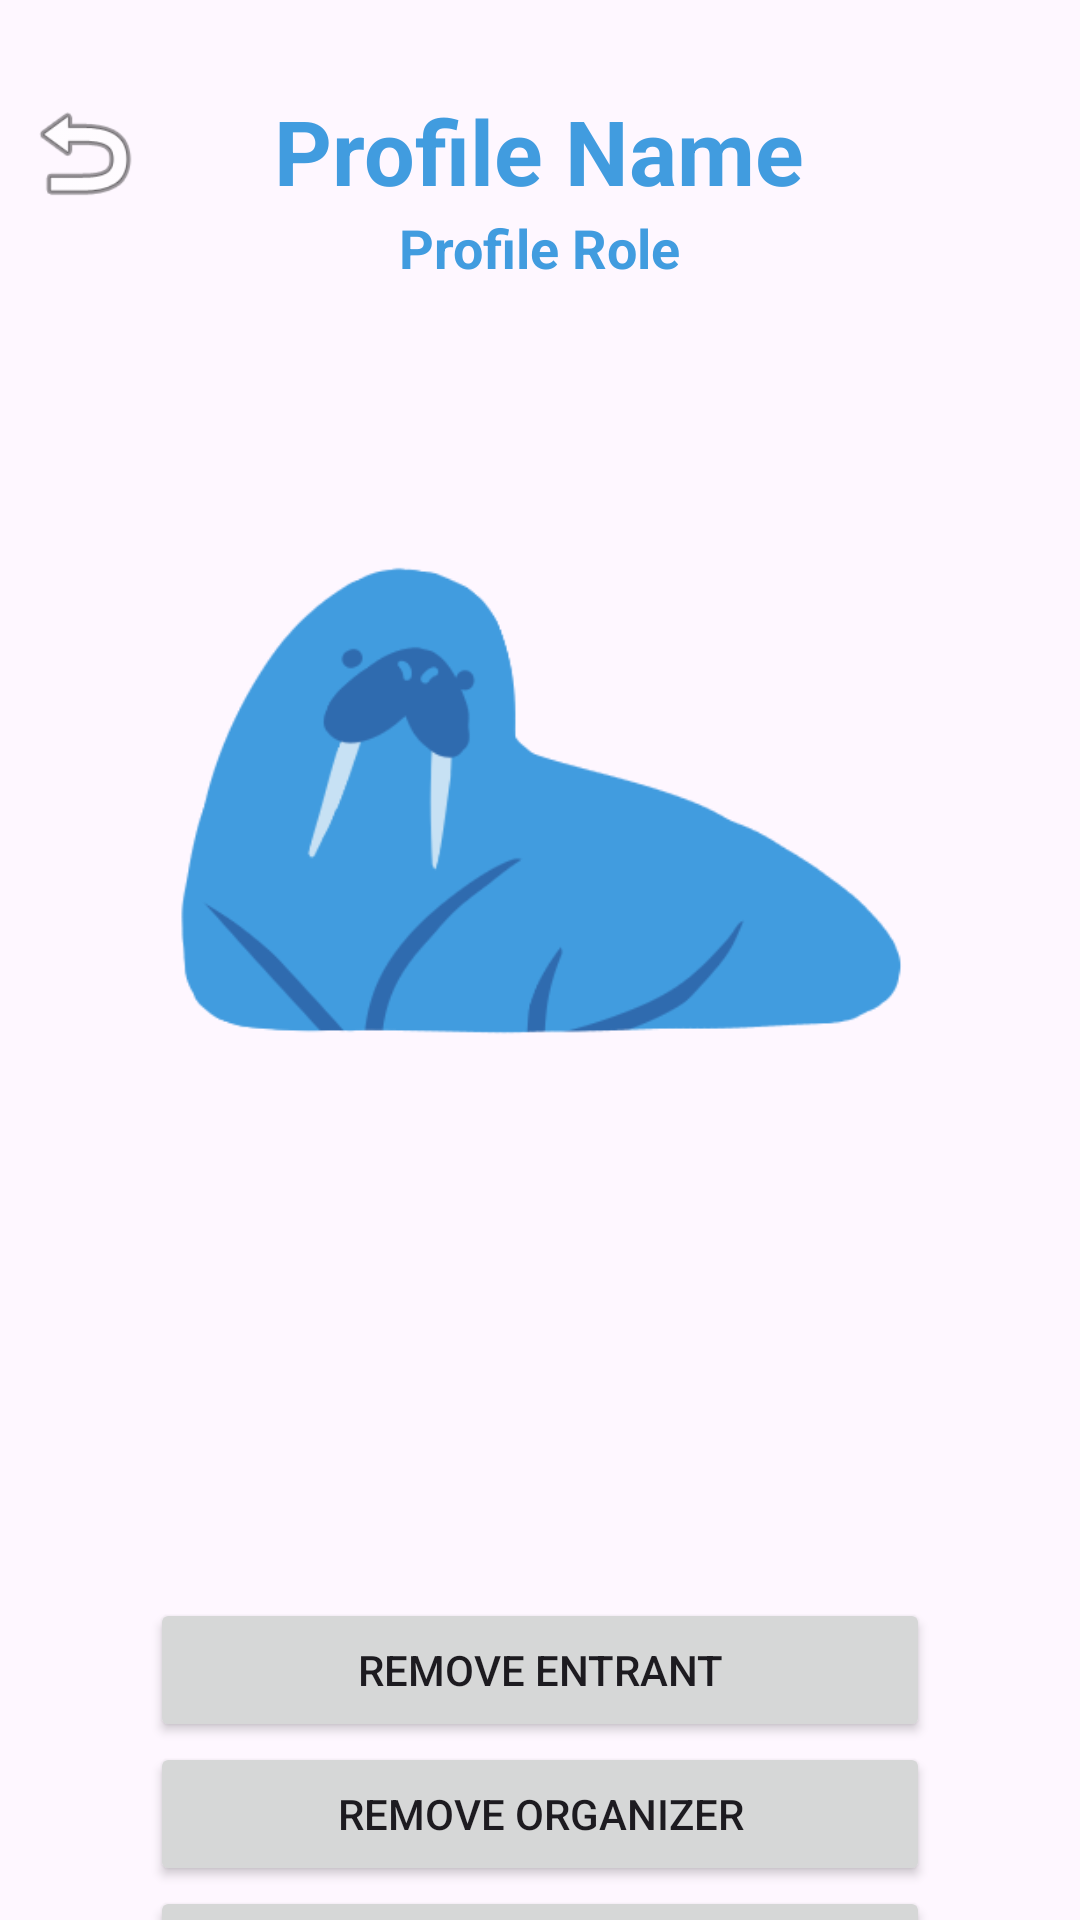

Named icons in this screenshot (1080px x 1920px) and their bounding boxes, (x1, y1, x2, y2):
revert: (40, 113, 131, 195)
